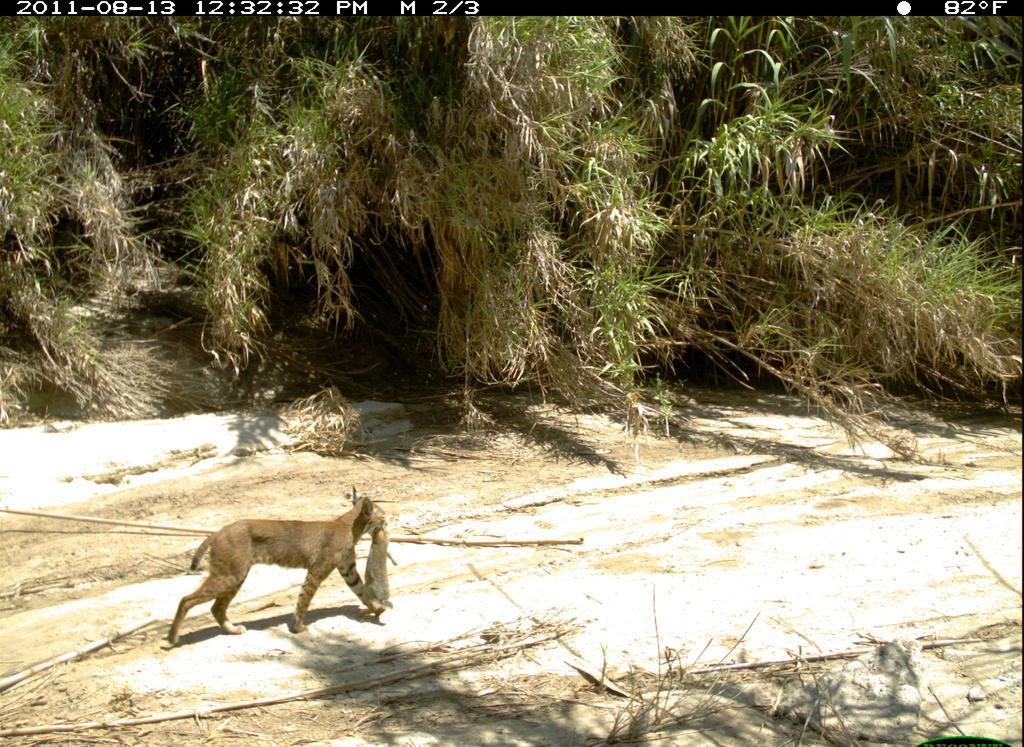rabbit: (361, 520, 403, 615)
